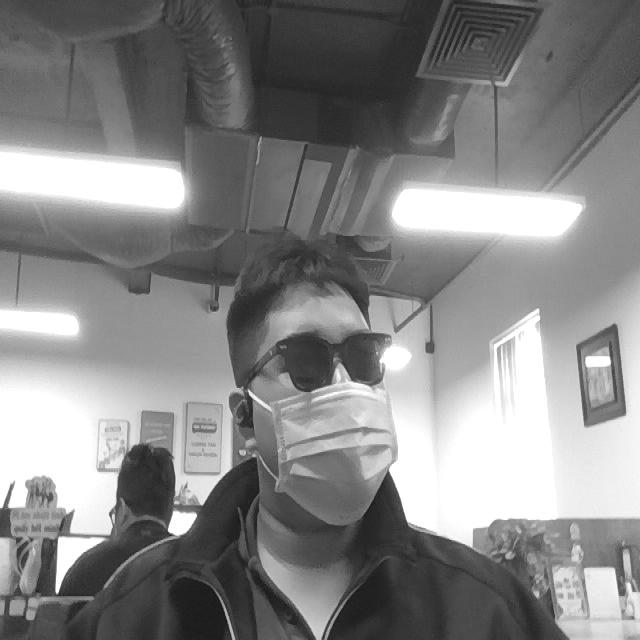fake: (273, 380, 403, 530), (263, 329, 401, 389)
